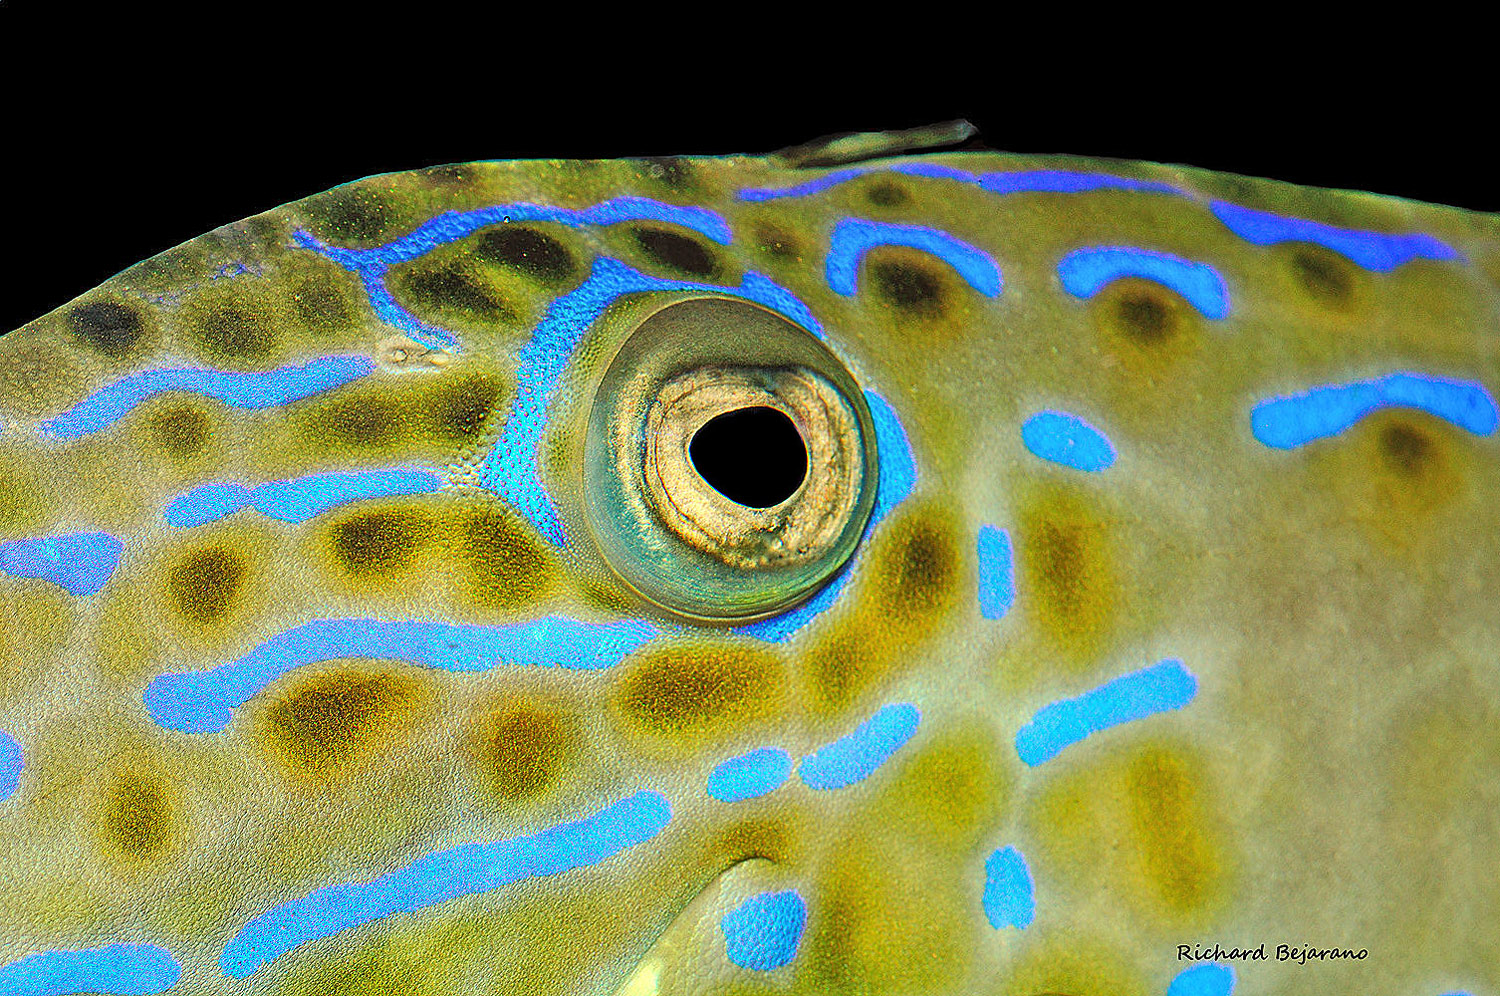Aluterus_scriptus: (3, 94, 1487, 996)
